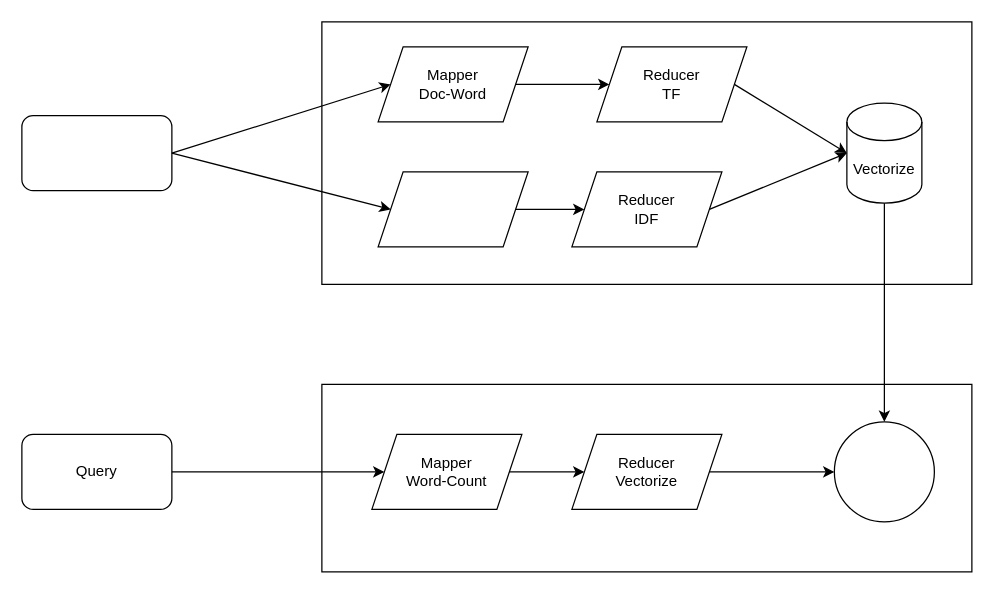
Image size: 994x594. Some labels were removed from this diagram. Here are the shapes that lost their labels. From the top down, the box of each, then its label:
(21, 114, 172, 191): Dataset
(377, 171, 528, 247): Mapper Word-Doc
(833, 421, 934, 522): Similarity
